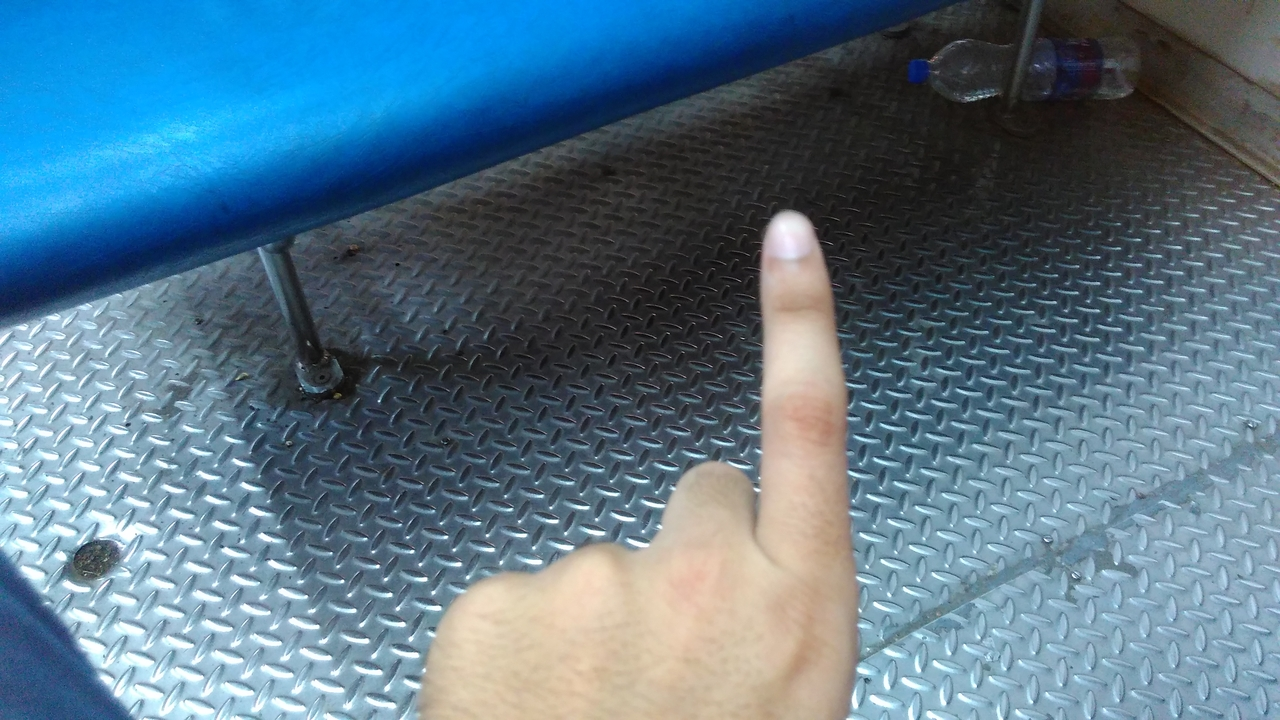fingertip: (762, 204, 830, 276)
